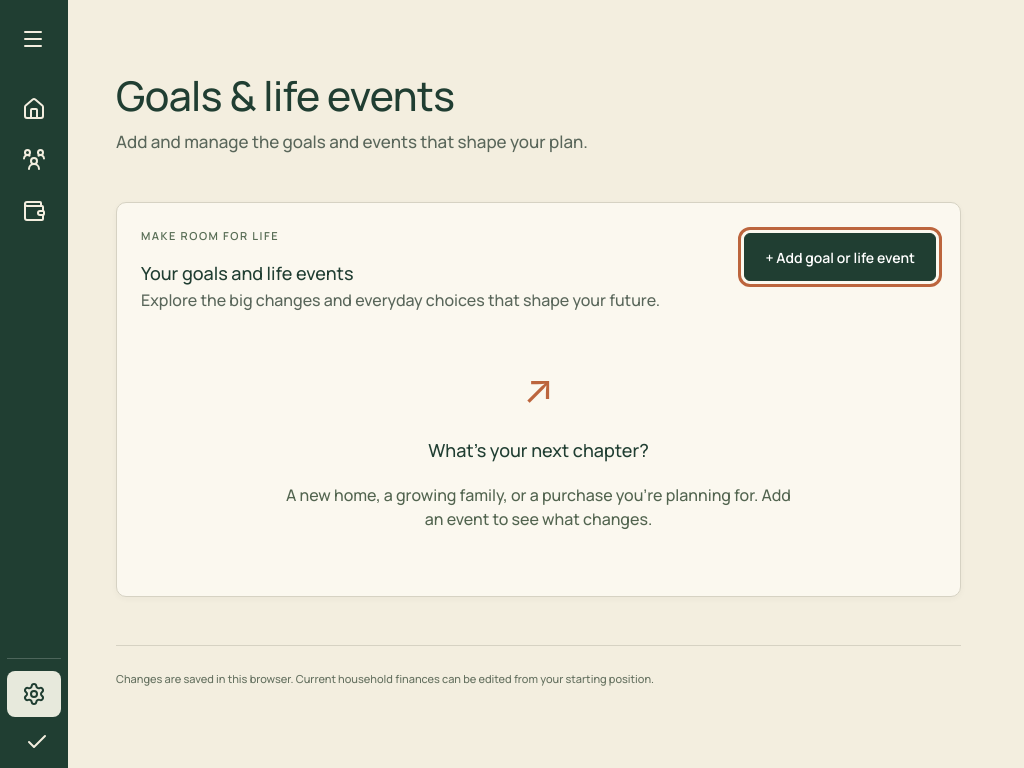
Test case: offers costs-only rental purchases and makes home moves unavailable to renters
Click the button "+ Add goal or life event" at (840, 258), box 744,234 -> 936,282
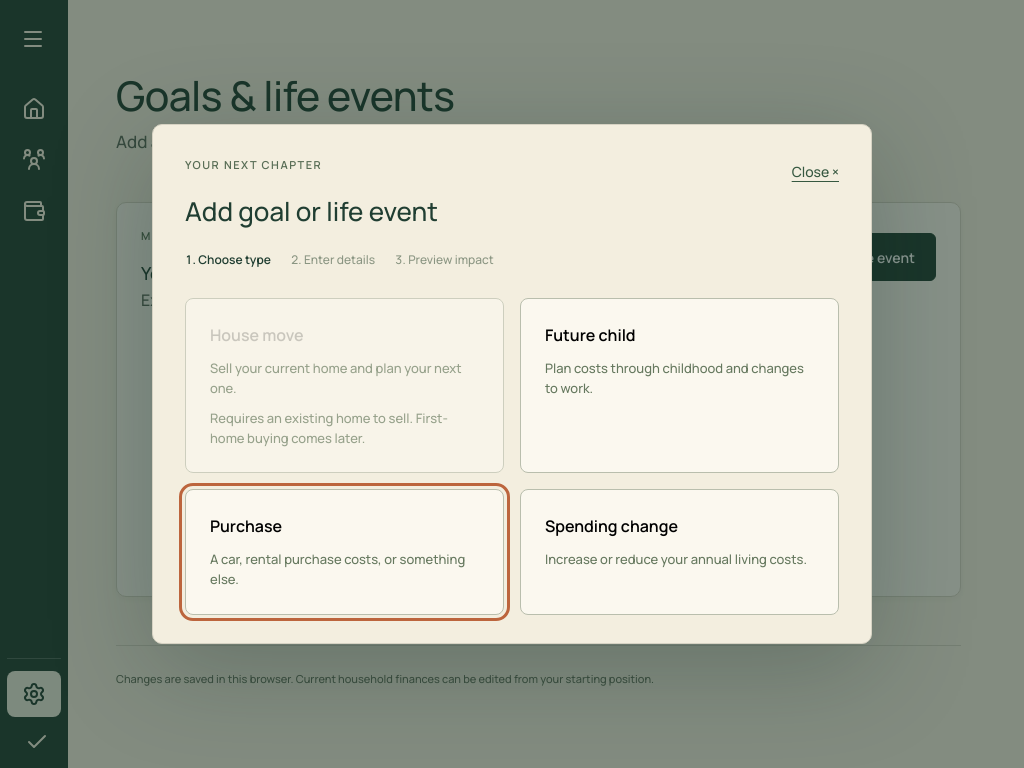
Expected: the button "House move" is disabled, 185,298 -> 504,474
Click the button "Purchase A car, rental purchase costs, or something else." at (344, 552), box 185,489 -> 504,614
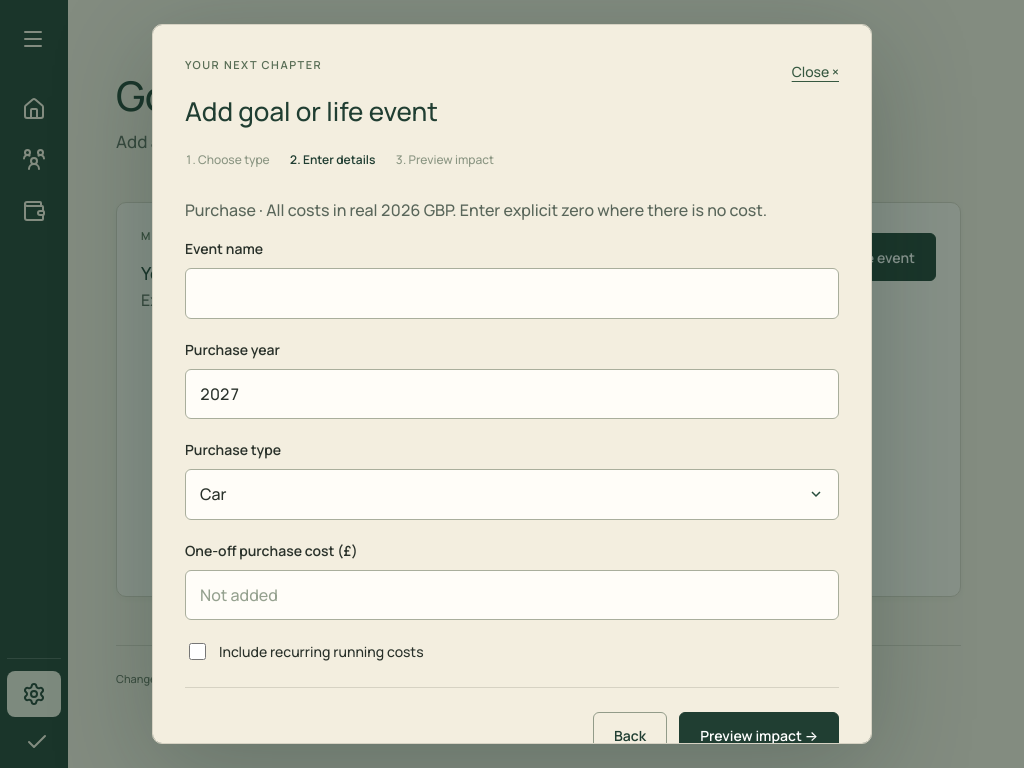
Select "Rental-property purchase costs" in the dropdown labelled "Purchase type" at (512, 494), box 185,469 -> 839,520
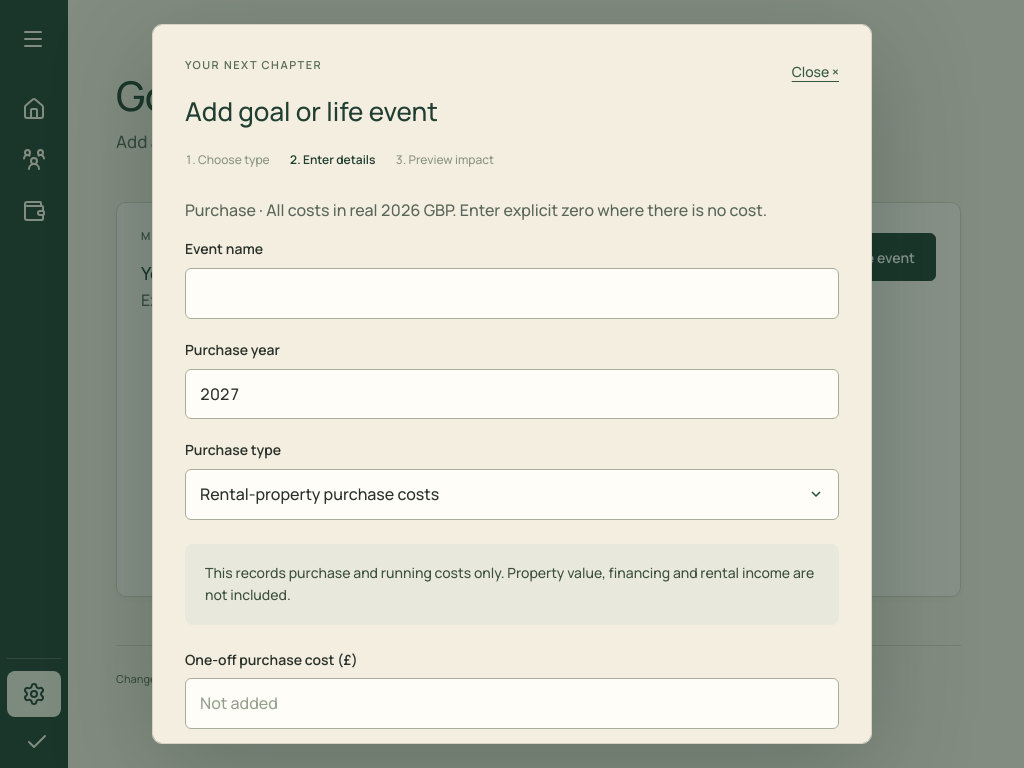
Expected: the text "Property value, financing and rental income are not included" is shown, 205,563 -> 814,604
